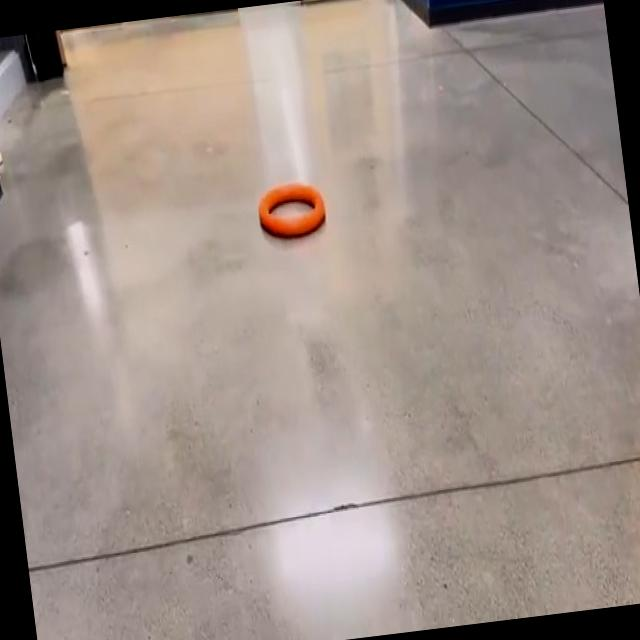note: (258, 183, 325, 234)
